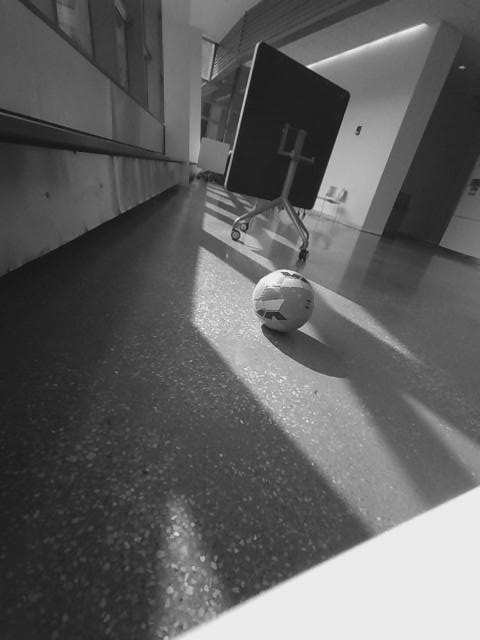ball: (248, 269, 319, 336)
